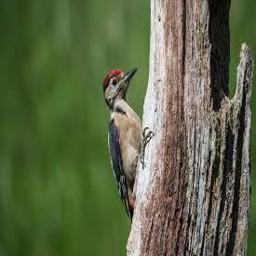Woodpecker: (103, 68, 143, 221)
